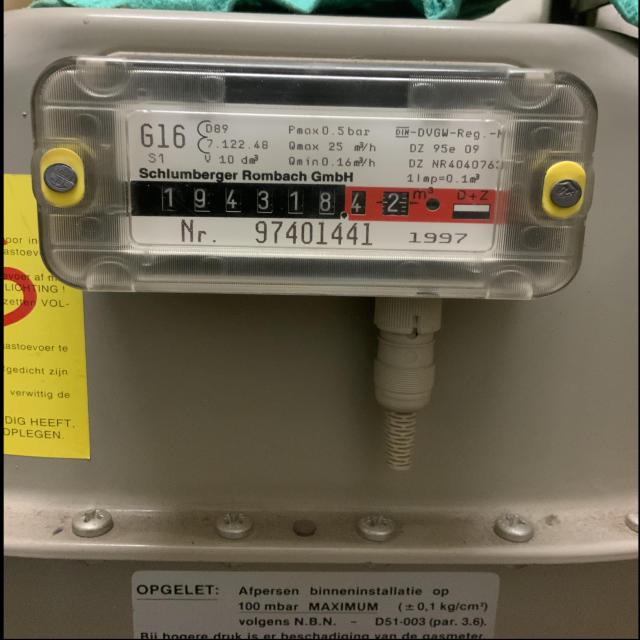gaz_meter: (129, 99, 504, 258)
indication: (140, 177, 415, 224)
